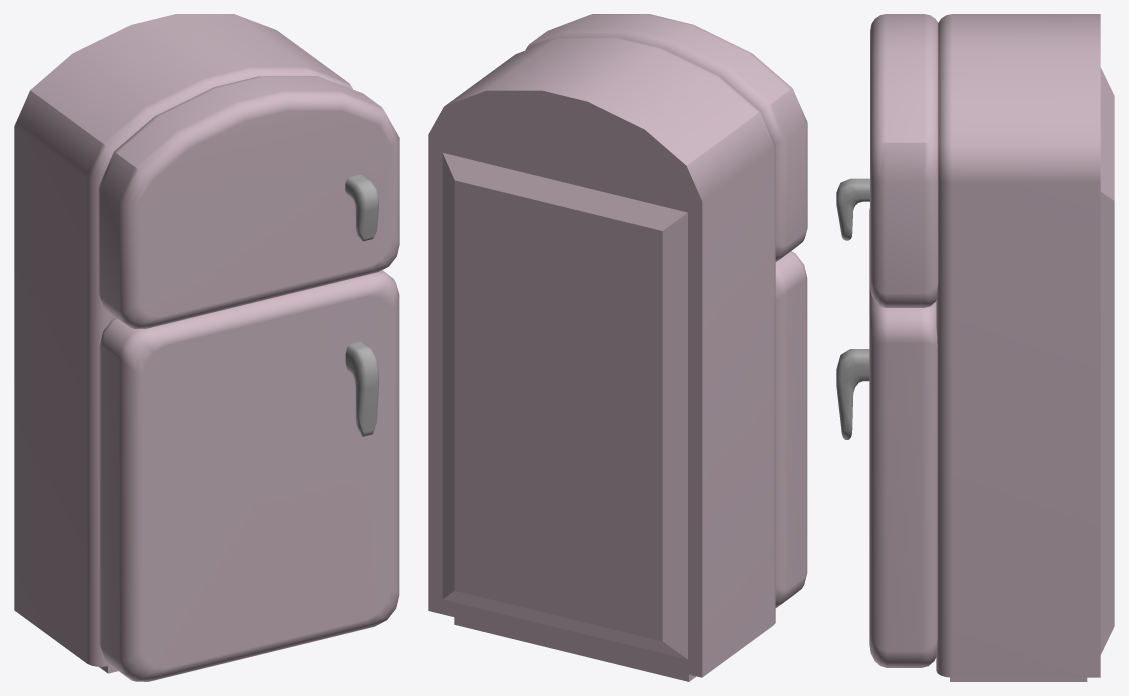
File: Fridge.fbx
The picture shows the model from 3 angles, left to right: view 1: azimuth 30°, elevation 25°; view 2: azimuth 150°, elevation 25°; view 3: azimuth 270°, elevation 25°; orthographic projection. The views are drawn at different scales.
Visible parts, largest first — view 1: Fridge; view 2: Fridge; view 3: Fridge.
Boxes of the visible parts, box(x1,y1,x2,y2) form: Fridge: box(14, 14, 399, 681); Fridge: box(428, 14, 807, 681); Fridge: box(836, 14, 1114, 681).
Bounding box in the file's own units: 1 × 1.96 × 0.8478.
